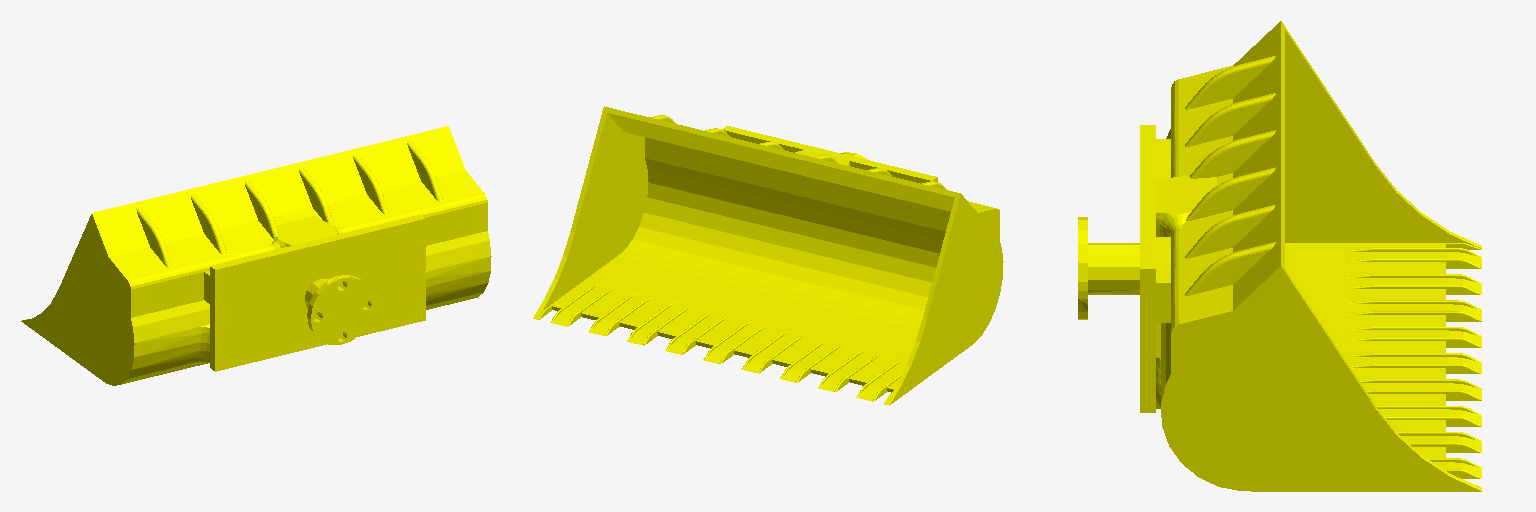
The robot description file, URDF, robot "scoop_urdf":
<?xml version="1.0" encoding="utf-8"?>
<!-- This URDF was automatically created by SolidWorks to URDF Exporter! Originally created by [author] ([email redacted]) 
     Commit Version: 1.6.0-4-g7f85cfe  Build Version: 1.6.7995.38578
     For more information, please see http://wiki.ros.org/sw_urdf_exporter -->
<robot
  name="scoop_urdf">
  <link
    name="scoop">
    <inertial>
      <origin
        xyz="5.6402E-06 -0.0031065 -0.029004"
        rpy="0 0 0" />
      <mass
        value="0.033026" />
      <inertia
        ixx="1.5195E-05"
        ixy="1.1473E-10"
        ixz="7.1239E-11"
        iyy="4.2855E-05"
        iyz="-3.2482E-06"
        izz="3.9837E-05" />
    </inertial>
    <visual>
      <origin
        xyz="0 0 0"
        rpy="0 0 0" />
      <geometry>
        <mesh
          filename="package://aligned_arm/meshes/scoop.STL" />
      </geometry>
      <material
        name="">
        <color
          rgba="1 1 0 1" />
      </material>
    </visual>
    <collision>
      <origin
        xyz="0 0 0"
        rpy="0 0 0" />
      <geometry>
        <mesh
          filename="package://aligned_arm/meshes/scoop.STL" />
      </geometry>
    </collision>
  </link>
</robot>

--- Render facts (derived) ---
The picture shows the robot from 3 angles, left to right: view 1: azimuth 30°, elevation 25°; view 2: azimuth 150°, elevation 25°; view 3: azimuth 270°, elevation 25°; orthographic projection.
Robot: scoop_urdf — 1 links, 0 joints (none); root link scoop; default pose: all joints at 0.
Links seen in each view (by area): view 1: scoop; view 2: scoop; view 3: scoop.
Link boxes in pixels (box(x1,y1,x2,y2)): scoop: box(21, 126, 491, 385); scoop: box(533, 106, 1003, 405); scoop: box(1078, 21, 1481, 491).
Size in the robot's own frame: 0.112 by 0.078 by 0.048 metres.
1 mesh visuals loaded from 1 distinct referenced files (1 binary STL).